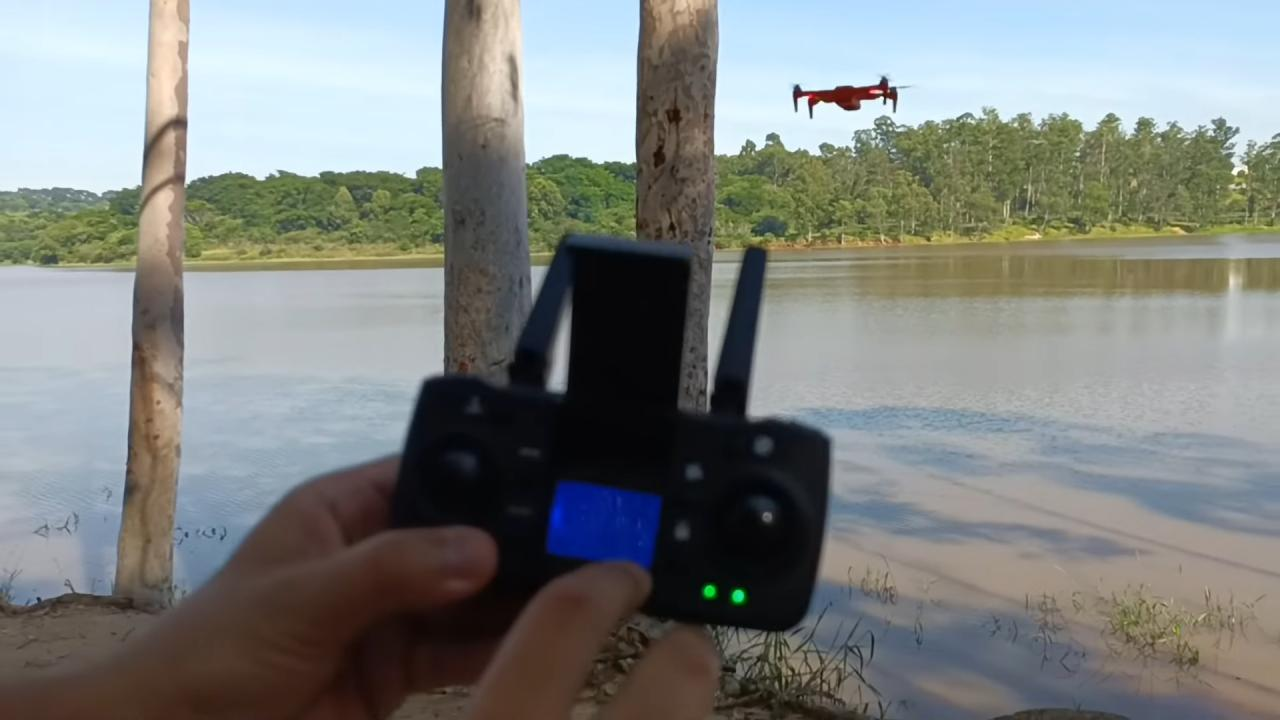Drone: (778, 64, 926, 126)
